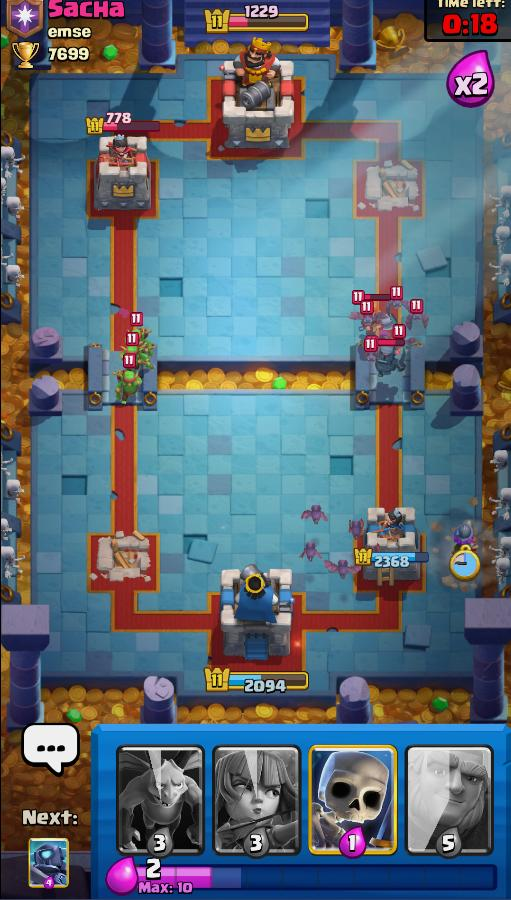bat: (291, 502, 338, 533), (323, 554, 368, 586), (291, 535, 328, 571), (345, 307, 392, 330), (398, 306, 435, 332), (342, 515, 371, 544), (378, 296, 415, 317), (396, 335, 425, 354), (361, 541, 386, 560), (356, 349, 382, 367)
gobelin_lances: (114, 340, 158, 379), (109, 368, 150, 405), (121, 322, 160, 353)
mini_PEKKA: (360, 345, 415, 383)
mousquetaire: (439, 519, 487, 573)
valkyrie: (350, 290, 392, 345)
